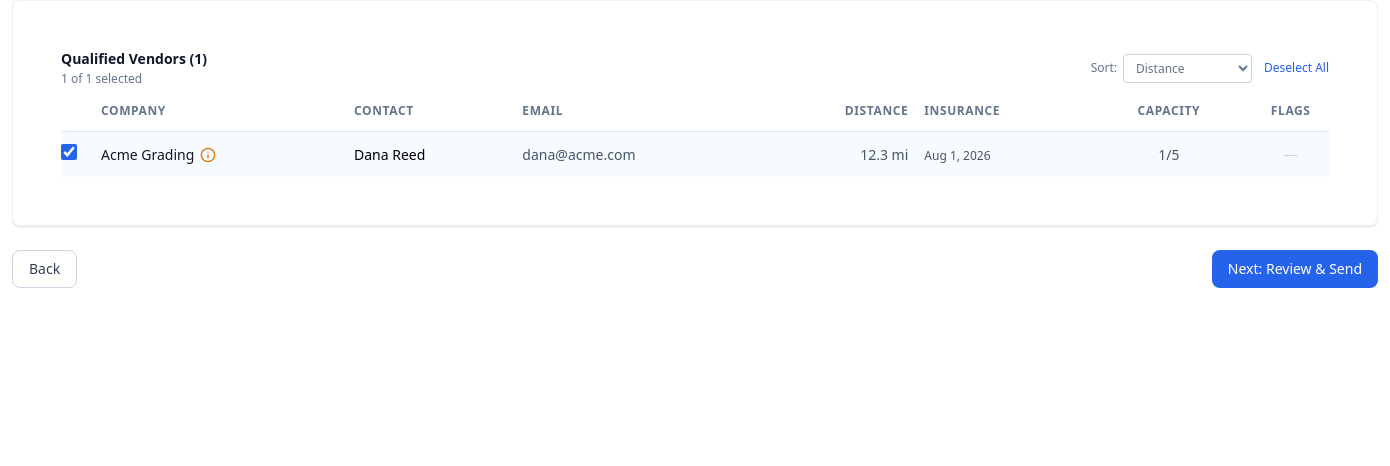
it: VendorSelectionStep advisories › shows an Advisories section with the advisory when the row is expanded
// Expand the vendor row (the company name toggles it).
Click the text "Acme Grading" at (148, 154), box [101,144,194,164]
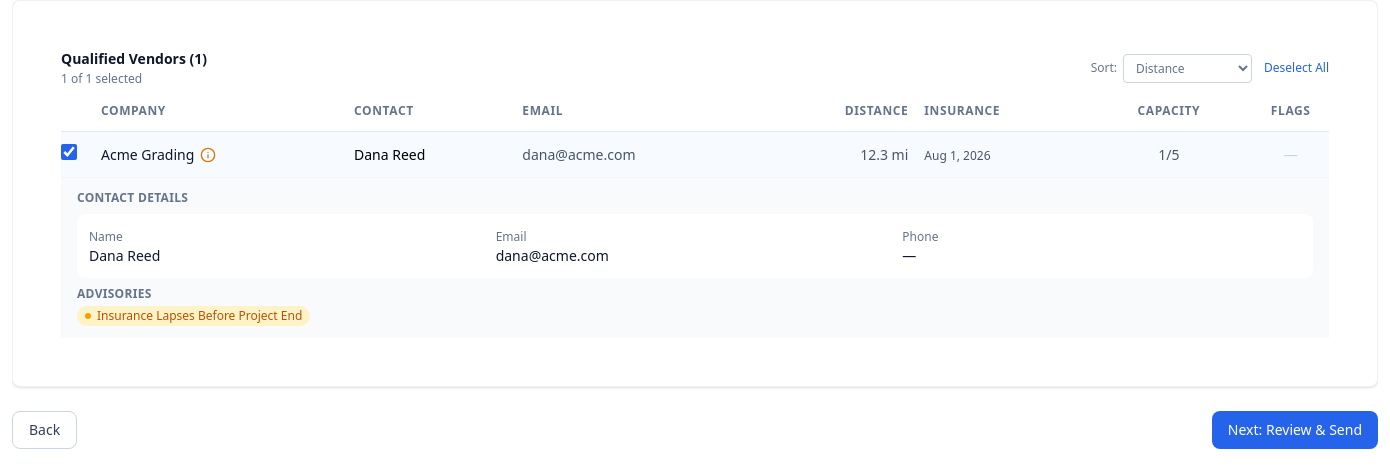
Result: the text "Advisories" is shown at [77,285,152,302]
Result: the text "Insurance Lapses Before Project End" is shown at [77,306,310,326]
